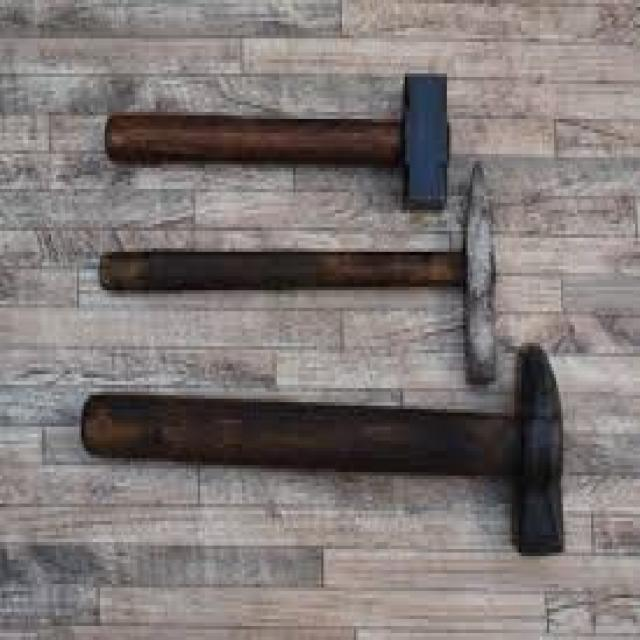hammer: (81, 332, 568, 563), (82, 157, 528, 396), (92, 48, 462, 212)
